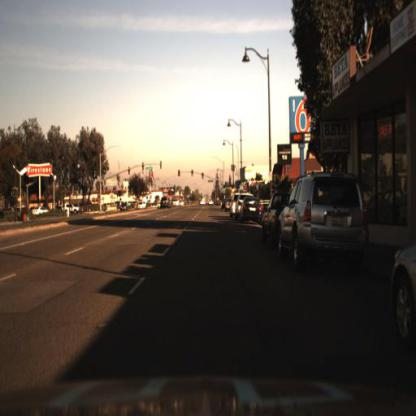car: (276, 169, 366, 275), (257, 187, 293, 251), (394, 242, 415, 344), (258, 188, 277, 246), (240, 193, 264, 225), (237, 196, 262, 226), (59, 199, 82, 217), (30, 203, 51, 221), (30, 203, 50, 219)
